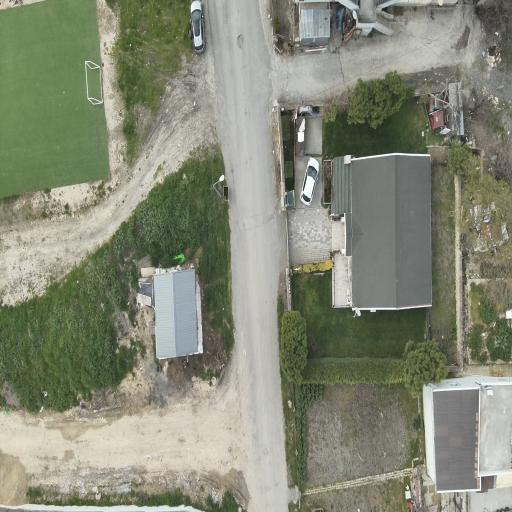car: (300, 158, 319, 205), (189, 0, 205, 54)
